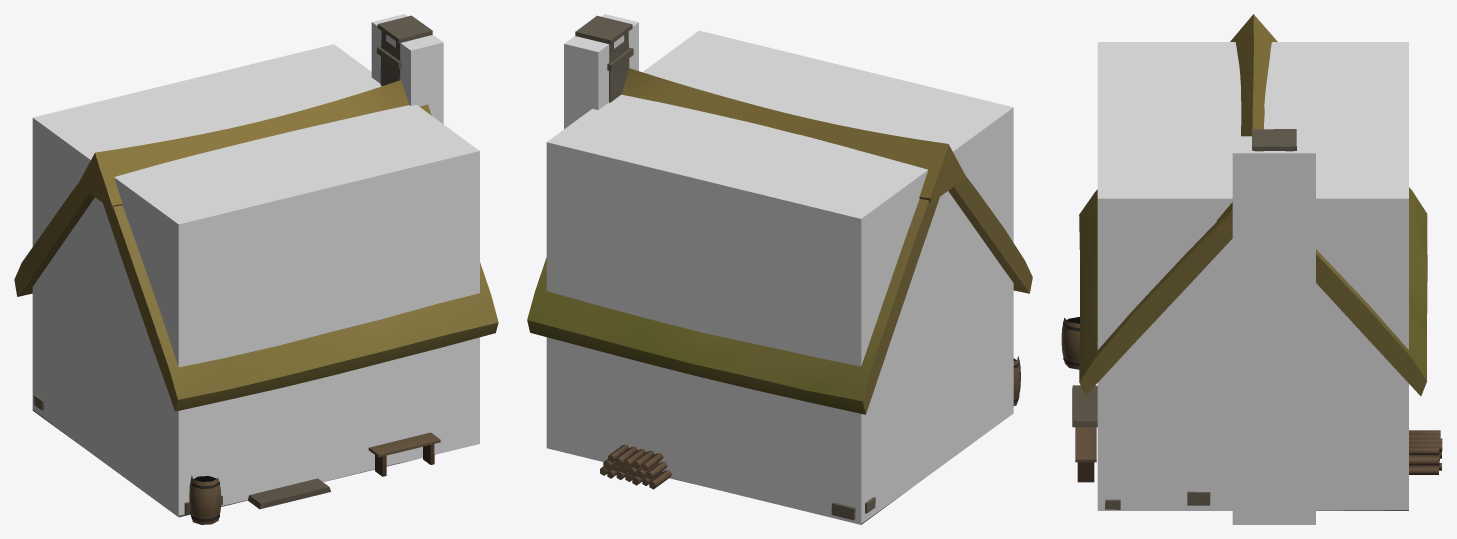
File: house_a.glb
3 renders of one model, left to right at view 1: azimuth 30°, elevation 25°; view 2: azimuth 150°, elevation 25°; view 3: azimuth 270°, elevation 25°, orthographic. The views are drawn at different scales.
Visible parts, largest first — view 1: COL_body, house_a, COL_chimney; view 2: COL_body, house_a, COL_chimney; view 3: COL_body, COL_chimney, house_a.
Boxes of the visible parts, box(x1,y1,x2,y2) form: COL_body: box(32, 44, 479, 517); house_a: box(14, 15, 498, 524); COL_chimney: box(371, 14, 443, 123); COL_body: box(546, 30, 1013, 524); house_a: box(527, 15, 1032, 524); COL_chimney: box(564, 14, 638, 128); COL_body: box(1097, 42, 1408, 510); COL_chimney: box(1232, 136, 1315, 524); house_a: box(1061, 14, 1442, 510).
Size of the model in its own units: 7.02 by 7.01 by 6.41.
